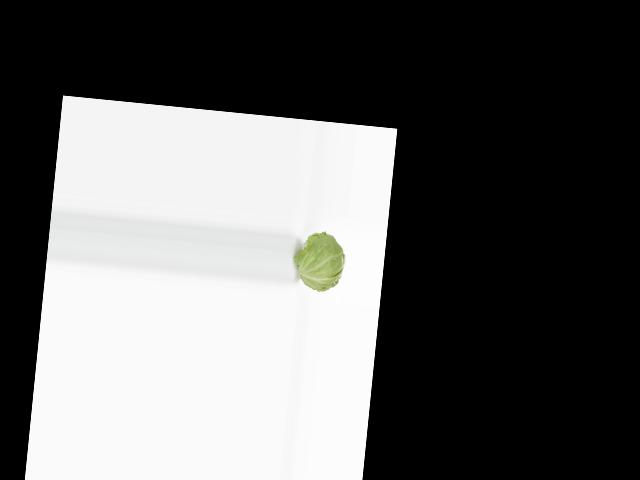lettuce: (297, 228, 348, 297)
